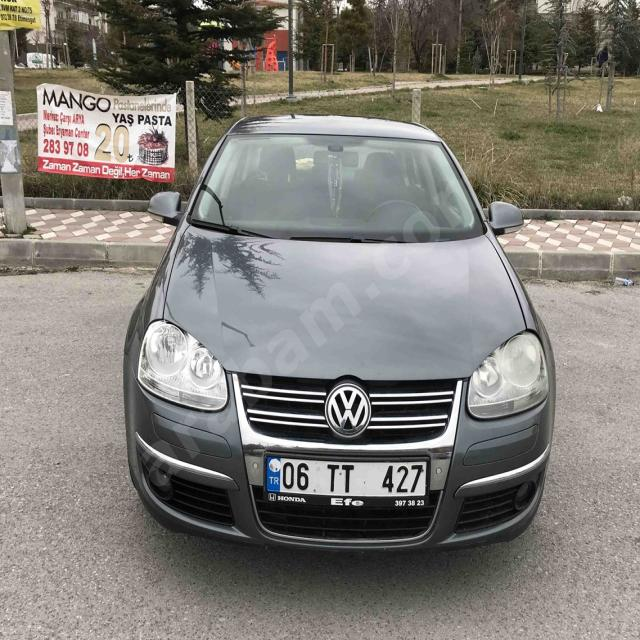license_plate: (265, 455, 427, 496)
